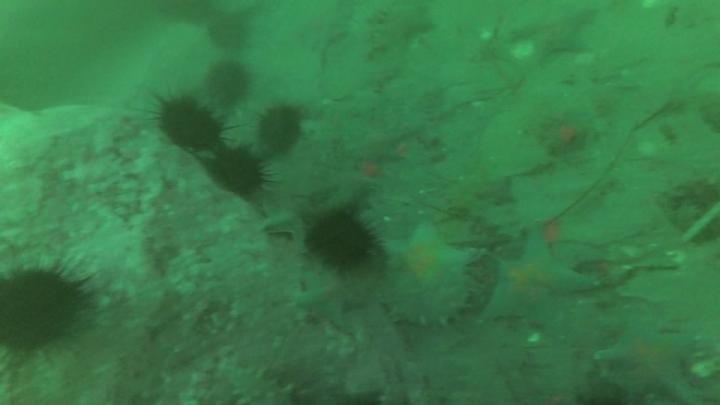echinus: (1, 272, 78, 355), (307, 214, 372, 270), (160, 100, 223, 152), (209, 148, 265, 195), (257, 107, 304, 155), (207, 64, 249, 103)
holothurian: (382, 281, 473, 323), (229, 370, 291, 405), (358, 3, 396, 58)
scallop: (321, 26, 402, 102), (483, 107, 553, 180), (554, 208, 661, 253)
starfish: (484, 225, 589, 334), (591, 316, 695, 405), (382, 225, 467, 289), (514, 3, 595, 60), (300, 275, 365, 328), (265, 205, 306, 252)
